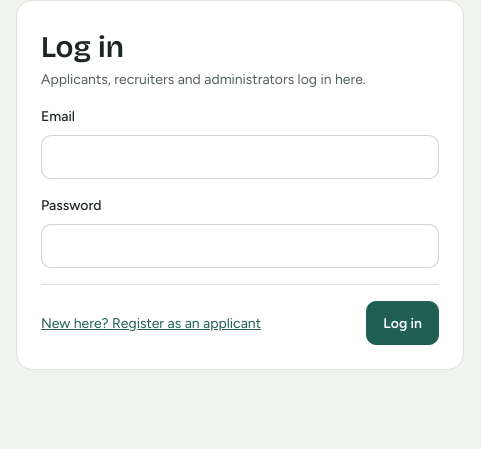
Test: LogInForm › shows the backend's reason and stays on the form
In the field labelled "Email": (240, 157) [41,135,439,179], type "jordan.lee@example.com"
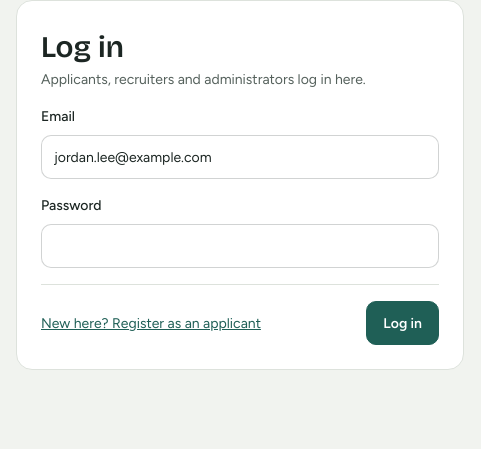
In the password field labelled "Password": (240, 246) [41,224,439,268], type "wrong"
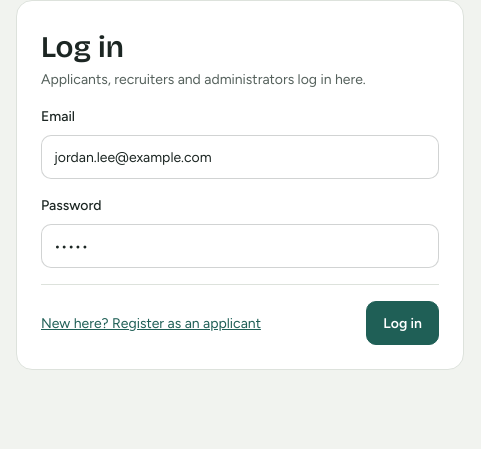
Click the button "Log in": click(403, 323) [366,301,439,345]
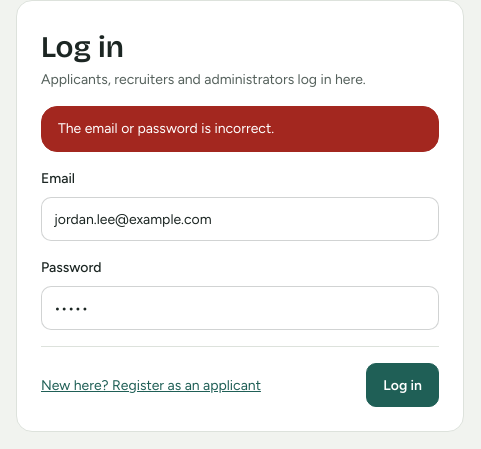
Expected: the button "Log in" is enabled, [366,363,439,407]
Result: the message reads "The email or password is incorrect." at [58,120,274,137]
